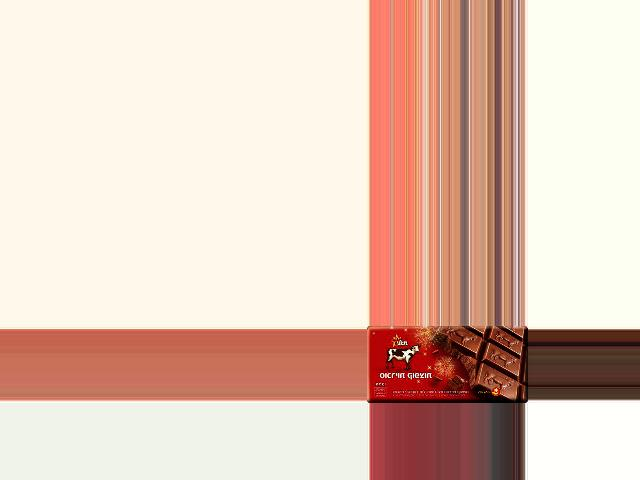chocolate: (366, 326, 527, 402)
